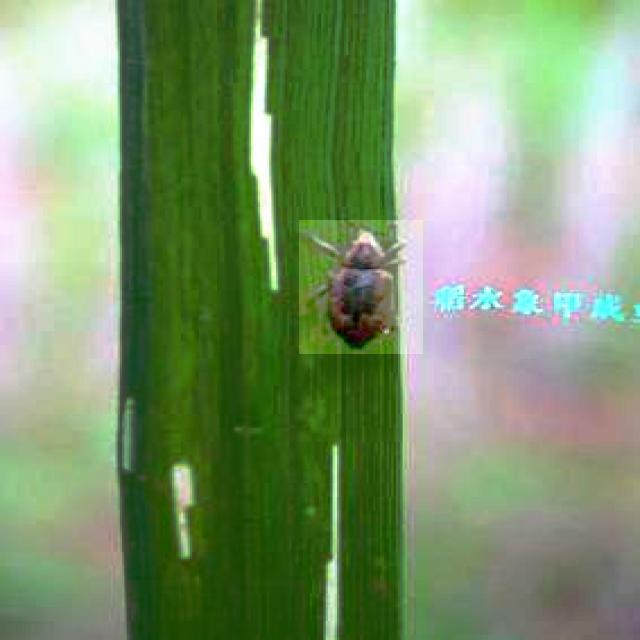rice-bug: (299, 220, 423, 354)
